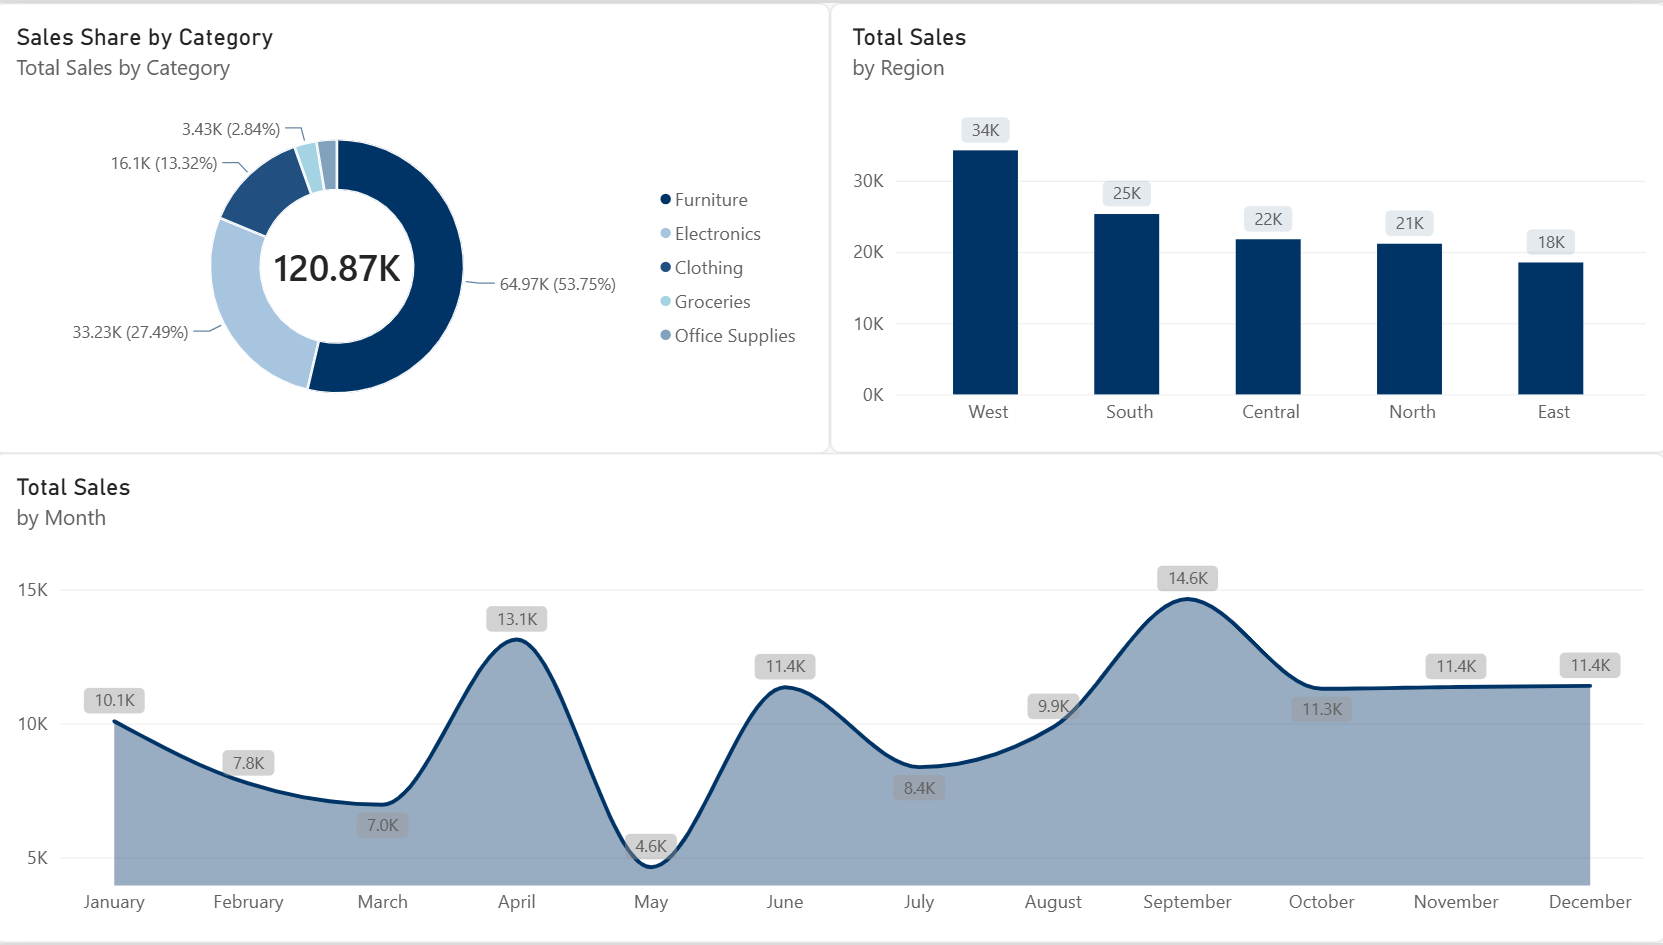

The dashboard page shown, as its layout file describes it:
{"tool":"powerbi","page":{"name":"Sales Analysis","canvas":[1280,720],"ordinal":1},"visuals":[{"type":"clusteredColumnChart","fields":{"Category":["Sales_Table.Region"],"Y":["Product_Table.Total Sales"]},"box":[640,0,641.5,344.5],"z":0},{"type":"lineChart","fields":{"Category":["Sales_Table.Order Date.Variation.Date Hierarchy.Month"],"Y":["Product_Table.Total Sales"]},"box":[0,344.5,1280,375.1],"z":1000},{"type":"donutChart","title":"Sales Share by Category","fields":{"Category":["Sales_Table.Category"],"Y":["Product_Table.Total Sales"]},"box":[0,0,640,345.1],"z":2000}]}

Visuals, with their boxes in screenshot pixels (x1, y1, x2, y2), scaled from the page's 1280x720 canvas onto the 1663x945 screenshot:
clusteredColumnChart - Sales_Table.Region x Product_Table.Total Sales: x1=832 y1=0 x2=1662 y2=452
lineChart - Sales_Table.Order Date.Variation.Date Hierarchy.Month x Product_Table.Total Sales: x1=0 y1=452 x2=1662 y2=944
"Sales Share by Category" donutChart: x1=0 y1=0 x2=832 y2=453
